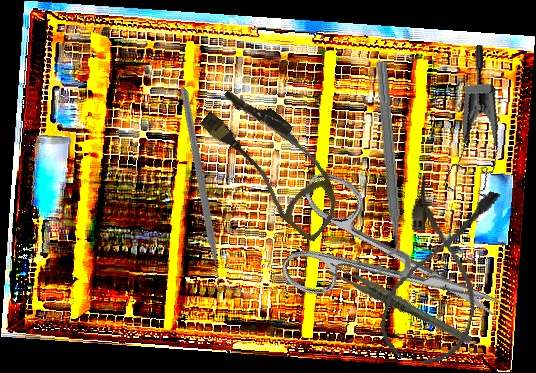Cannula: (187, 79, 362, 244), (373, 172, 506, 373)
Chopper: (92, 86, 301, 298)
Fixation Ring: (357, 60, 413, 280)
Iris Scissors: (267, 167, 522, 367)
Speculum: (412, 43, 521, 207)
Tissue Forceps: (324, 239, 474, 369)
